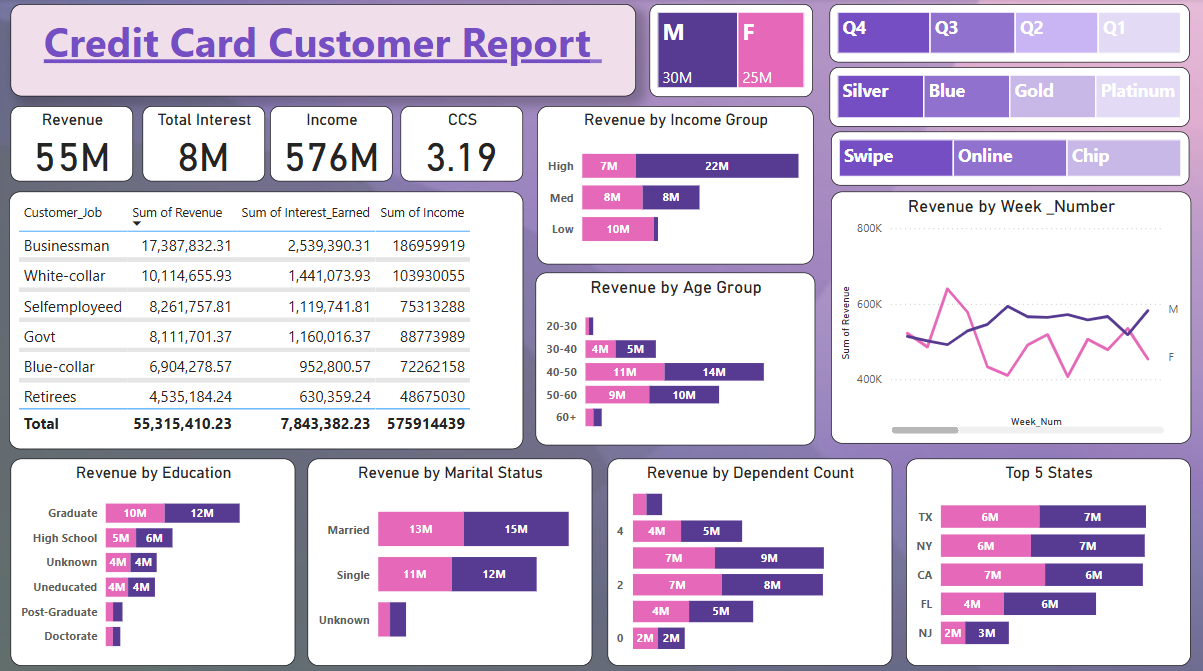

This screenshot's page, from the dashboard's own definition file:
{"tool":"powerbi","page":{"name":"CC Customer","canvas":[1280,720],"ordinal":1},"visuals":[{"type":"textbox","box":[15,6.7,663,98],"z":0},{"type":"barChart","title":"Revenue by Income Group","fields":{"Category":["ccdb_p customer.IncomeGroup"],"Y":["Sum(ccdb_p credit_card.Revenue)"],"Series":["ccdb_p customer.Gender"]},"box":[572,115,293.3,168],"z":1000},{"type":"tableEx","fields":{"Values":["ccdb_p customer.Customer_Job","Sum(ccdb_p credit_card.Revenue)","Sum(ccdb_p credit_card.Interest_Earned)","Sum(ccdb_p customer.Income)"]},"box":[13.3,205,545,273.3],"z":2000},{"type":"card","title":"Revenue","fields":{"Values":["Sum(ccdb_p credit_card.Revenue)"]},"box":[15,115,130,80],"z":3000},{"type":"card","title":"Income","fields":{"Values":["Sum(ccdb_p customer.Income)"]},"box":[290,115,130,80],"z":4000},{"type":"card","title":"CCS","fields":{"Values":["Avg(ccdb_p customer.Cust_Satisfaction_Score)"]},"box":[428,115,130,80],"z":5000},{"type":"treemap","fields":{"Group":["ccdb_p credit_card.Qtr"],"Values":["Avg(ccdb_p credit_card.ï»¿Client_Num)"]},"box":[883.3,6.7,381.7,61.7],"z":6000},{"type":"treemap","fields":{"Values":["Avg(ccdb_p credit_card.ï»¿Client_Num)"],"Group":["ccdb_p credit_card.Card_Category"]},"box":[883.3,73.3,381.7,63.3],"z":7000},{"type":"treemap","fields":{"Values":["Avg(ccdb_p credit_card.ï»¿Client_Num)"],"Group":["ccdb_p credit_card.Use Chip"]},"box":[885,141,380.2,57],"z":8000},{"type":"card","title":"Total Interest","fields":{"Values":["Sum(ccdb_p credit_card.Interest_Earned)"]},"box":[154,115,130,80],"z":9000},{"type":"lineChart","title":"Revenue by Week _Number","fields":{"Y":["Sum(ccdb_p credit_card.Revenue)"],"Series":["ccdb_p customer.Gender"],"Category":["ccdb_p credit_card.Week_Num","ccdb_p credit_card.Qtr"]},"box":[884.4,205.2,381.7,267.2],"z":10000},{"type":"treemap","fields":{"Group":["ccdb_p customer.Gender"],"Values":["Sum(ccdb_p credit_card.Revenue)"]},"box":[691.7,6.7,173.3,98.3],"z":11000},{"type":"barChart","title":"Revenue by Dependent Count","fields":{"Category":["ccdb_p customer.Dependent_Count"],"Y":["Sum(ccdb_p credit_card.Revenue)"],"Series":["ccdb_p customer.Gender"]},"box":[647,488,302,220],"z":12000},{"type":"barChart","title":"Revenue by Age Group","fields":{"Category":["ccdb_p customer.AgeGroup"],"Y":["Sum(ccdb_p credit_card.Revenue)"],"Series":["ccdb_p customer.Gender"]},"box":[571.7,291.7,296.7,183.3],"z":13000},{"type":"barChart","title":"Revenue by Education","fields":{"Category":["ccdb_p customer.Education_Level"],"Y":["Sum(ccdb_p credit_card.Revenue)"],"Series":["ccdb_p customer.Gender"]},"box":[15,488.3,302,220],"z":14000},{"type":"barChart","title":"Top 5 States","fields":{"Category":["ccdb_p customer.state_cd"],"Y":["Sum(ccdb_p credit_card.Revenue)"],"Series":["ccdb_p customer.Gender"]},"box":[963.3,488.3,301.7,220],"z":15000},{"type":"barChart","title":"Revenue by Marital Status","fields":{"Y":["Sum(ccdb_p credit_card.Revenue)"],"Category":["ccdb_p customer.Marital_Status"],"Series":["ccdb_p customer.Gender"]},"box":[330,488,301.7,220],"z":16000}]}

Visuals, with their boxes in screenshot pixels (x1, y1, x2, y2), scaled from the page's 1280x720 canvas onto the 1203x671 screenshot:
textbox: rect(14, 6, 637, 98)
"Revenue by Income Group" barChart: rect(538, 107, 813, 264)
tableEx - ccdb_p customer.Customer_Job x Sum(ccdb_p credit_card.Revenue): rect(12, 191, 525, 446)
"Revenue" card: rect(14, 107, 136, 182)
"Income" card: rect(273, 107, 395, 182)
"CCS" card: rect(402, 107, 524, 182)
treemap - ccdb_p credit_card.Qtr x Avg(ccdb_p credit_card.ï»¿Client_Num): rect(830, 6, 1189, 64)
treemap - Avg(ccdb_p credit_card.ï»¿Client_Num) x ccdb_p credit_card.Card_Category: rect(830, 68, 1189, 127)
treemap - Avg(ccdb_p credit_card.ï»¿Client_Num) x ccdb_p credit_card.Use Chip: rect(832, 131, 1189, 185)
"Total Interest" card: rect(145, 107, 267, 182)
"Revenue by Week _Number" lineChart: rect(831, 191, 1190, 440)
treemap - ccdb_p customer.Gender x Sum(ccdb_p credit_card.Revenue): rect(650, 6, 813, 98)
"Revenue by Dependent Count" barChart: rect(608, 455, 892, 660)
"Revenue by Age Group" barChart: rect(537, 272, 816, 443)
"Revenue by Education" barChart: rect(14, 455, 298, 660)
"Top 5 States" barChart: rect(905, 455, 1189, 660)
"Revenue by Marital Status" barChart: rect(310, 455, 594, 660)
